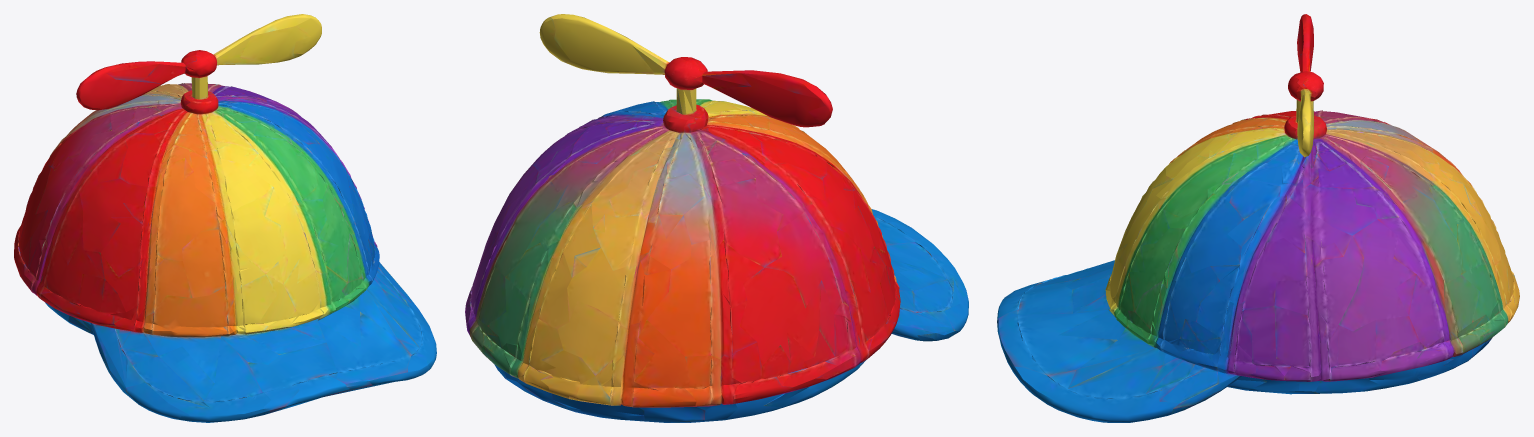
File: propeller_cap.glb
3 views of the same model, side by side, from view 1: azimuth 30°, elevation 25°; view 2: azimuth 150°, elevation 25°; view 3: azimuth 270°, elevation 25° (orthographic). The views are drawn at different scales.
Bounding box in the file's own units: 1.4 × 1.17 × 1.9.
Materials: 1 (1 with a texture image).
